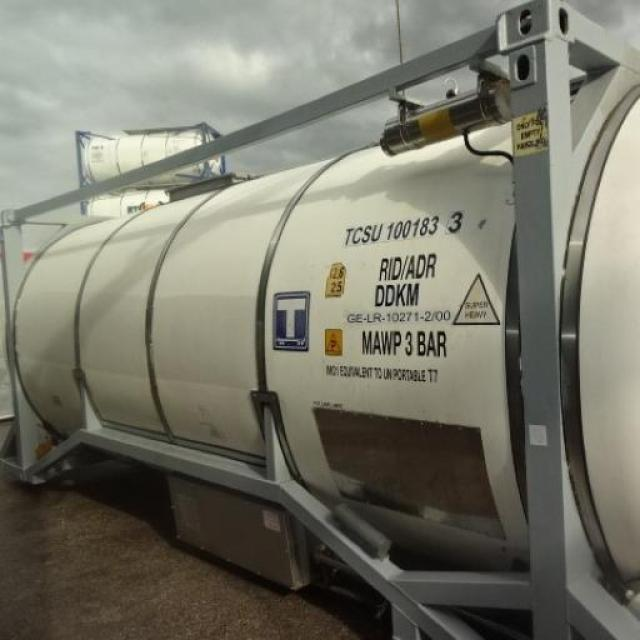container_number: (334, 214, 470, 242)
